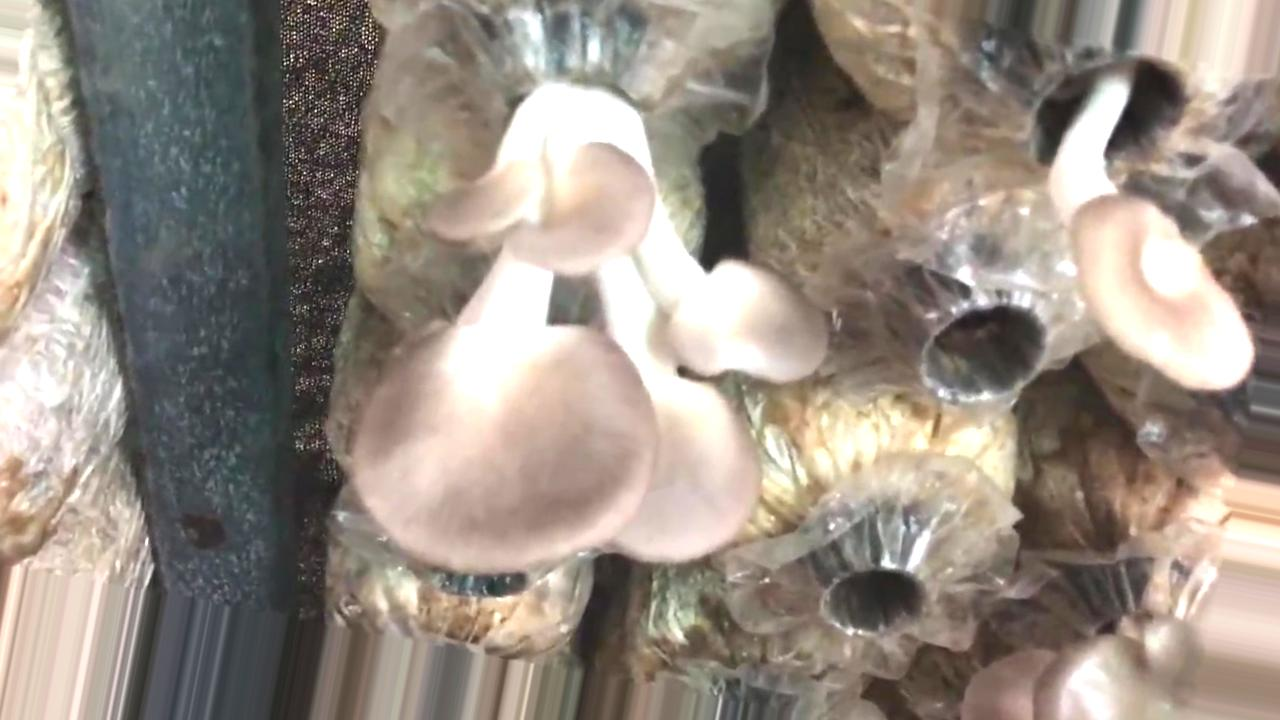nam: (352, 12, 831, 568), (1011, 50, 1256, 391)
